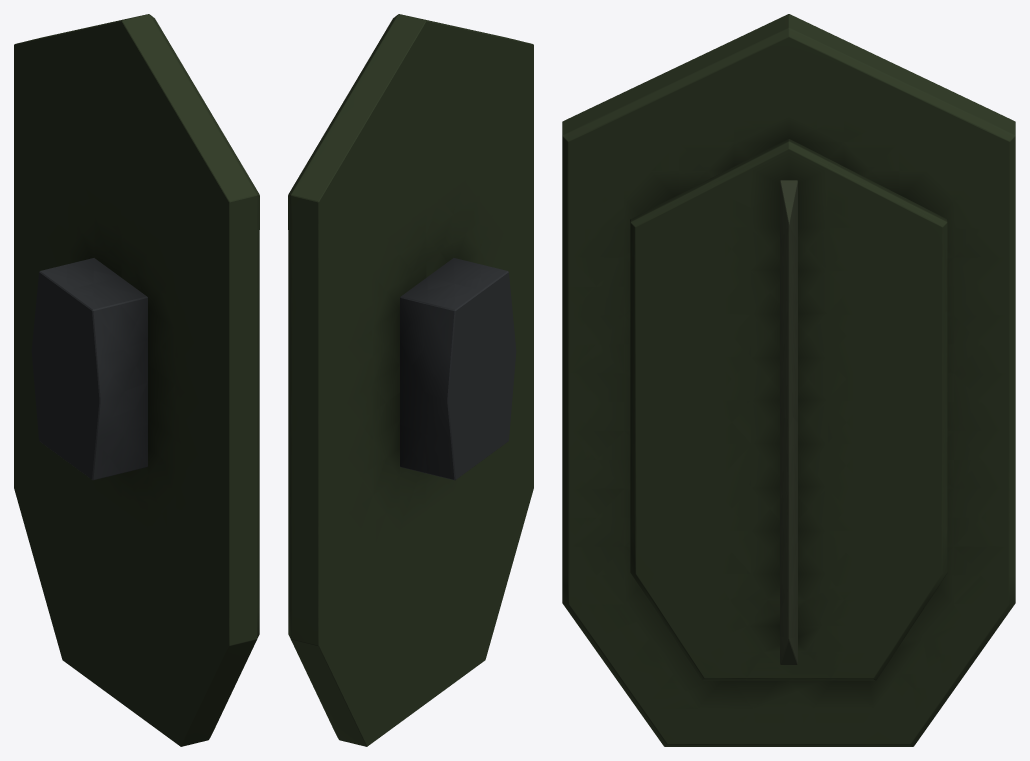
File: frame.binder.glb
3 renders of one model, left to right at view 1: azimuth 30°, elevation 25°; view 2: azimuth 150°, elevation 25°; view 3: azimuth 270°, elevation 25°, orthographic. The views are drawn at different scales.
Size of the model in its own units: 1.26 by 7 by 4.
